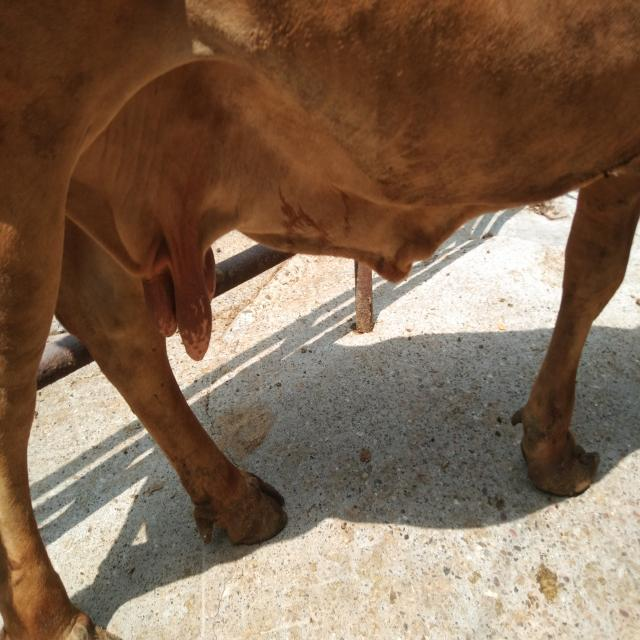Hoof: (510, 405, 600, 497), (193, 468, 288, 546)
